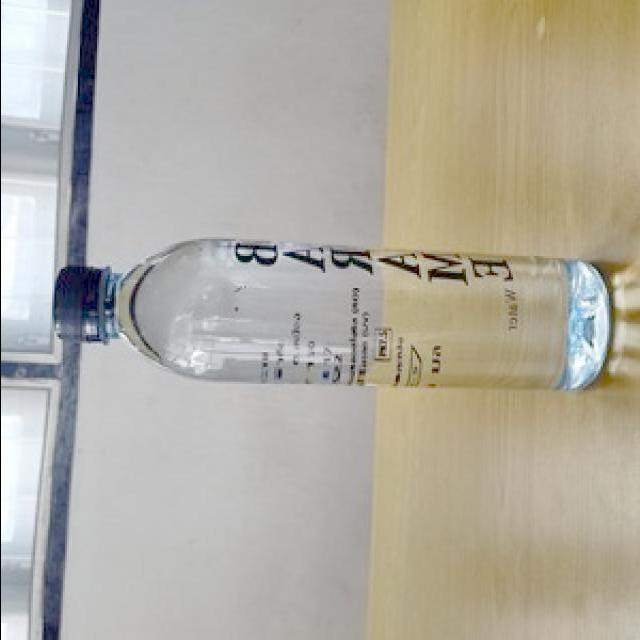cap: (48, 262, 109, 346)
label: (215, 237, 528, 396)
not-crumbled: (31, 229, 610, 406)
